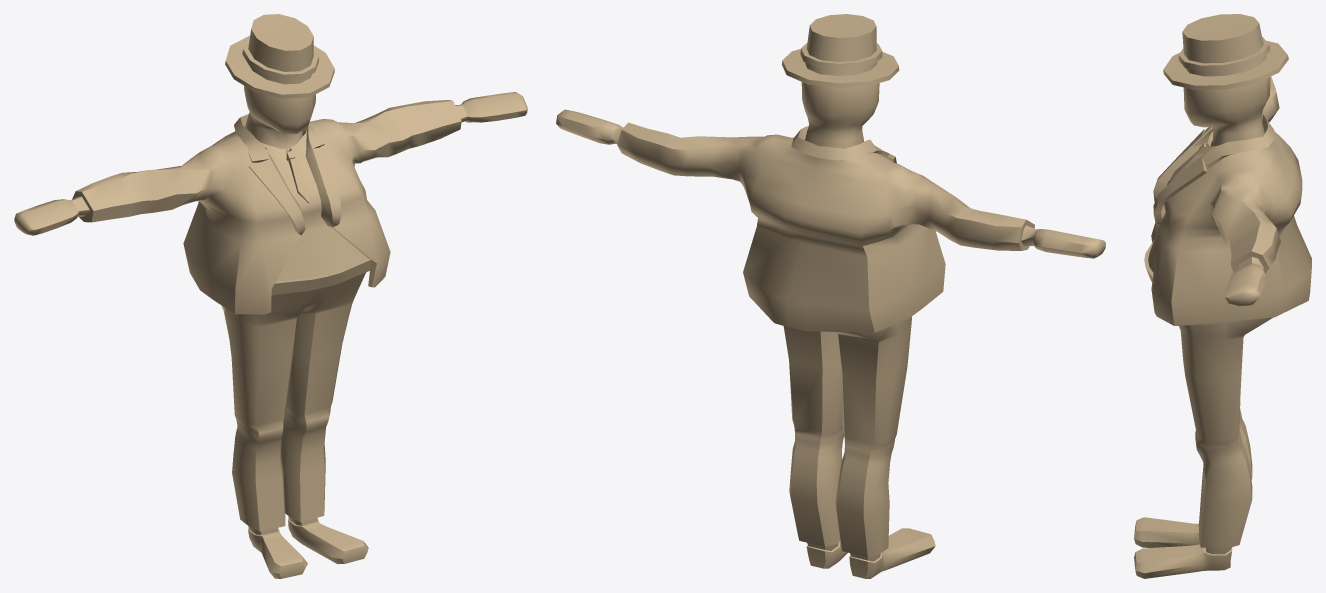
Rendered from SM_Mann_2.fbx.
3 views of the same model, side by side, from view 1: azimuth 30°, elevation 25°; view 2: azimuth 150°, elevation 25°; view 3: azimuth 270°, elevation 25° (orthographic). The views are drawn at different scales.
Visible parts, largest first — view 1: AnimationCharacter.001; view 2: AnimationCharacter.001; view 3: AnimationCharacter.001.
Boxes of the visible parts, x1,y1,x2,y2 form: AnimationCharacter.001: [14, 14, 527, 578]; AnimationCharacter.001: [556, 14, 1105, 578]; AnimationCharacter.001: [1134, 14, 1311, 578].
Size of the model in its own units: 8732 by 8478 by 2562.
